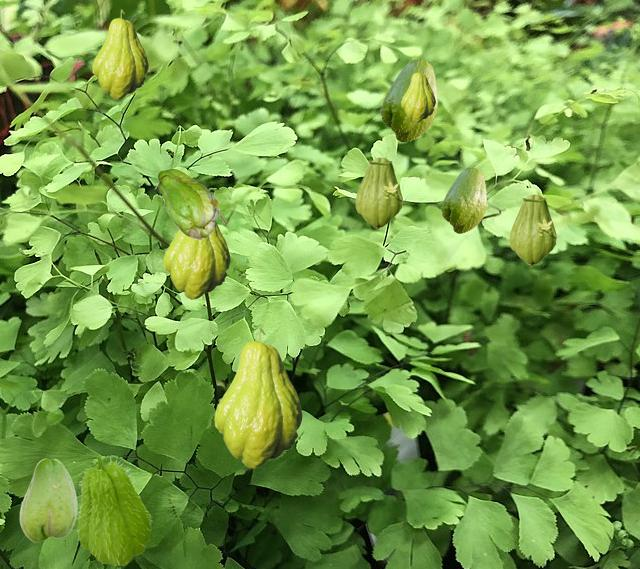sayote: (214, 327, 301, 467), (76, 454, 152, 565), (163, 221, 229, 298), (154, 168, 225, 239), (92, 9, 147, 98), (379, 59, 437, 142), (19, 458, 76, 541), (355, 157, 406, 228), (509, 194, 560, 265), (440, 167, 486, 233), (401, 67, 434, 121)
